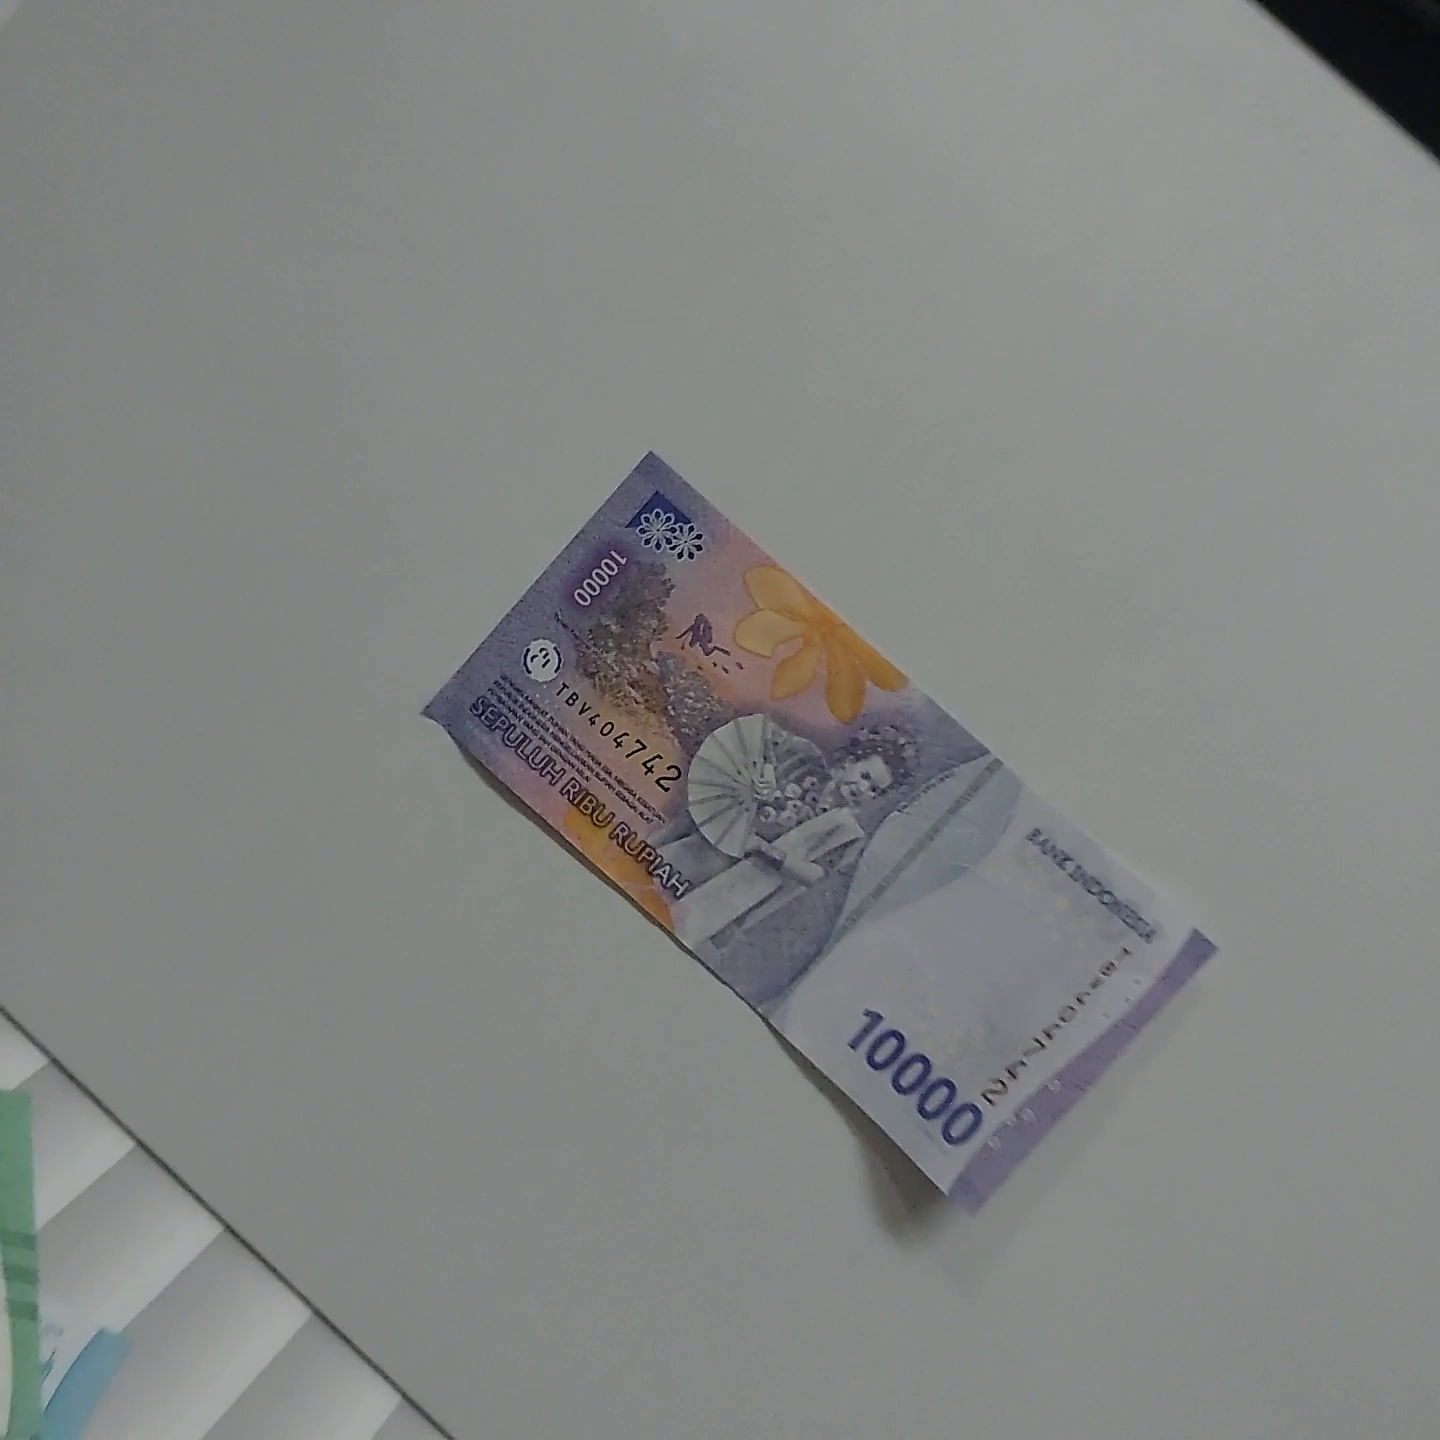10k: (641, 468, 1402, 825)
